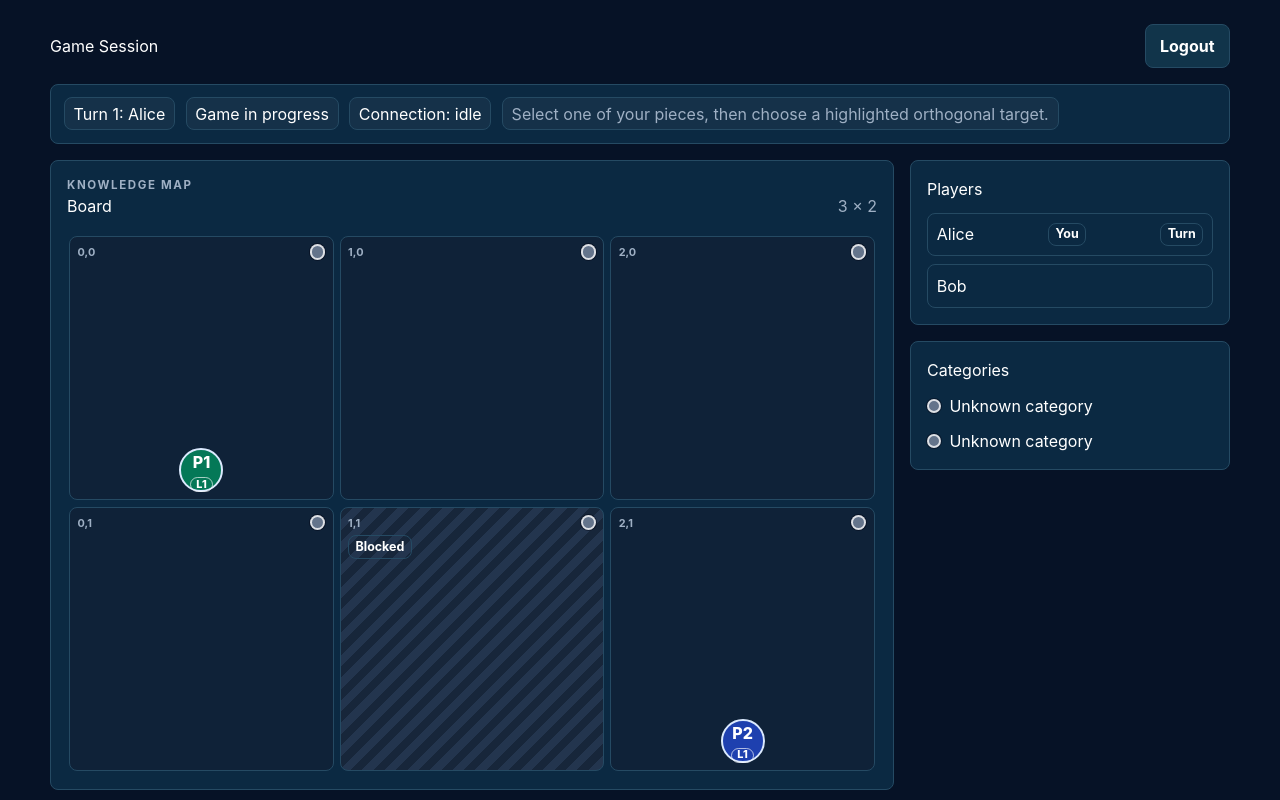
Test: GameSessionPage › starts a conquest question from board target selection without moving immediately
This screenshot has width=1280, height=800.
Expected: the text "Turn 1: Alice" is shown, [64, 97, 175, 130]
Click the cell named "row 1 column 1" at (201, 368), box [69, 236, 334, 500]
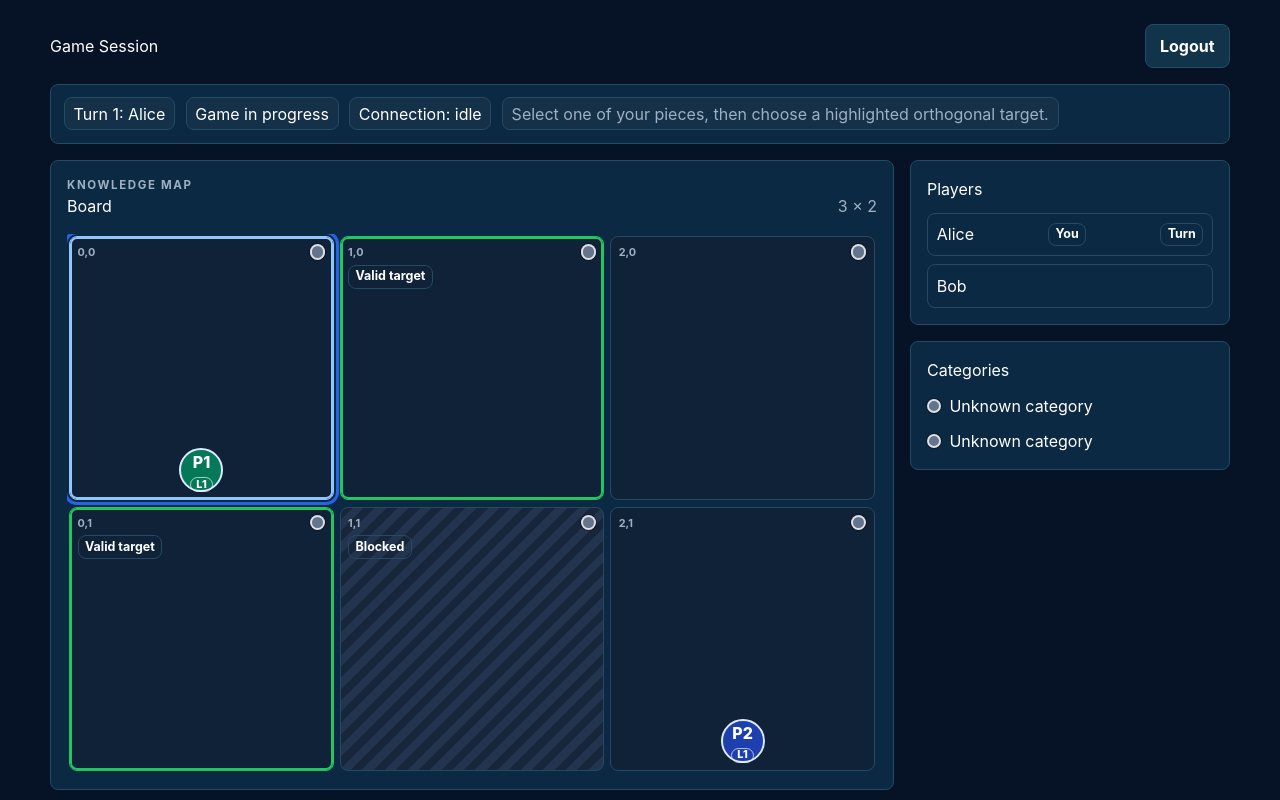
Click the cell named "row 1 column 2" at (472, 368), box [340, 236, 604, 500]
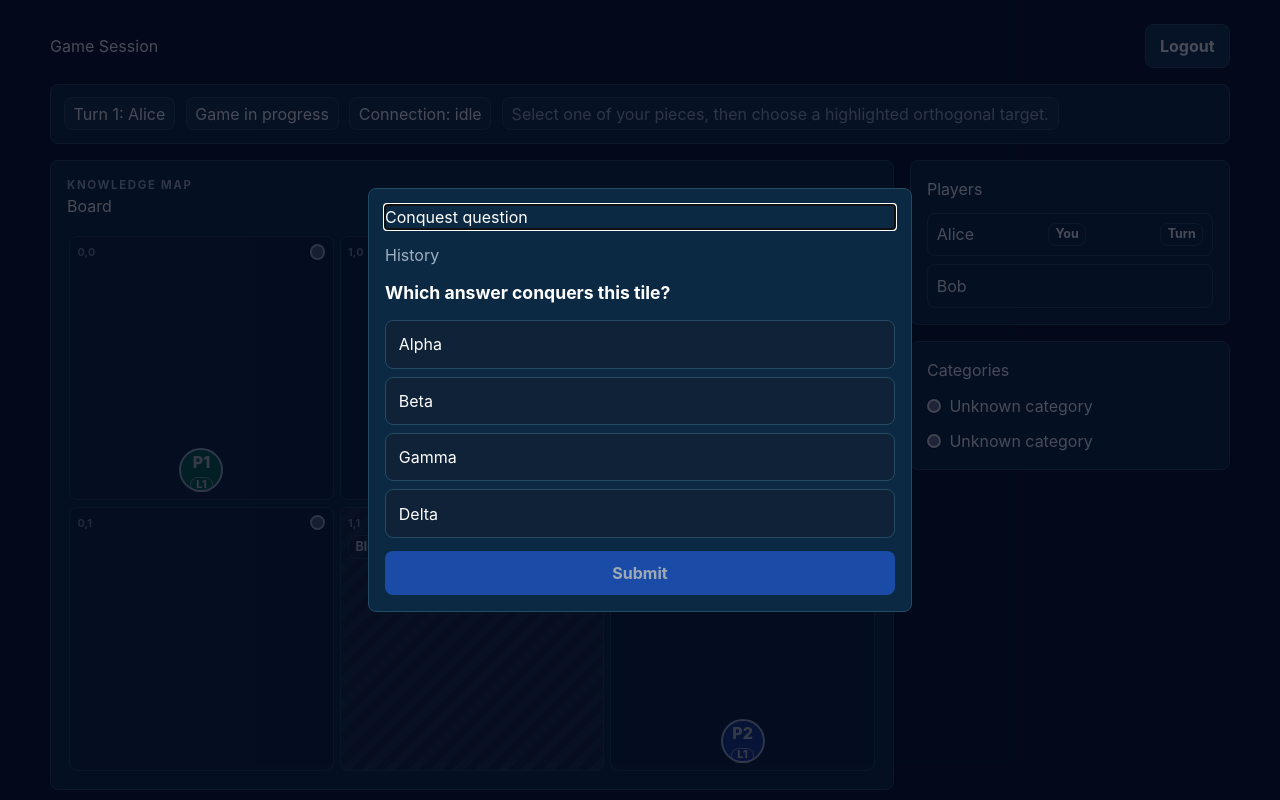
Now the dialog "Conquest question" is shown, box [368, 188, 912, 612]
Now the text "Which answer conquers this tile?" is shown, box [385, 282, 670, 303]
